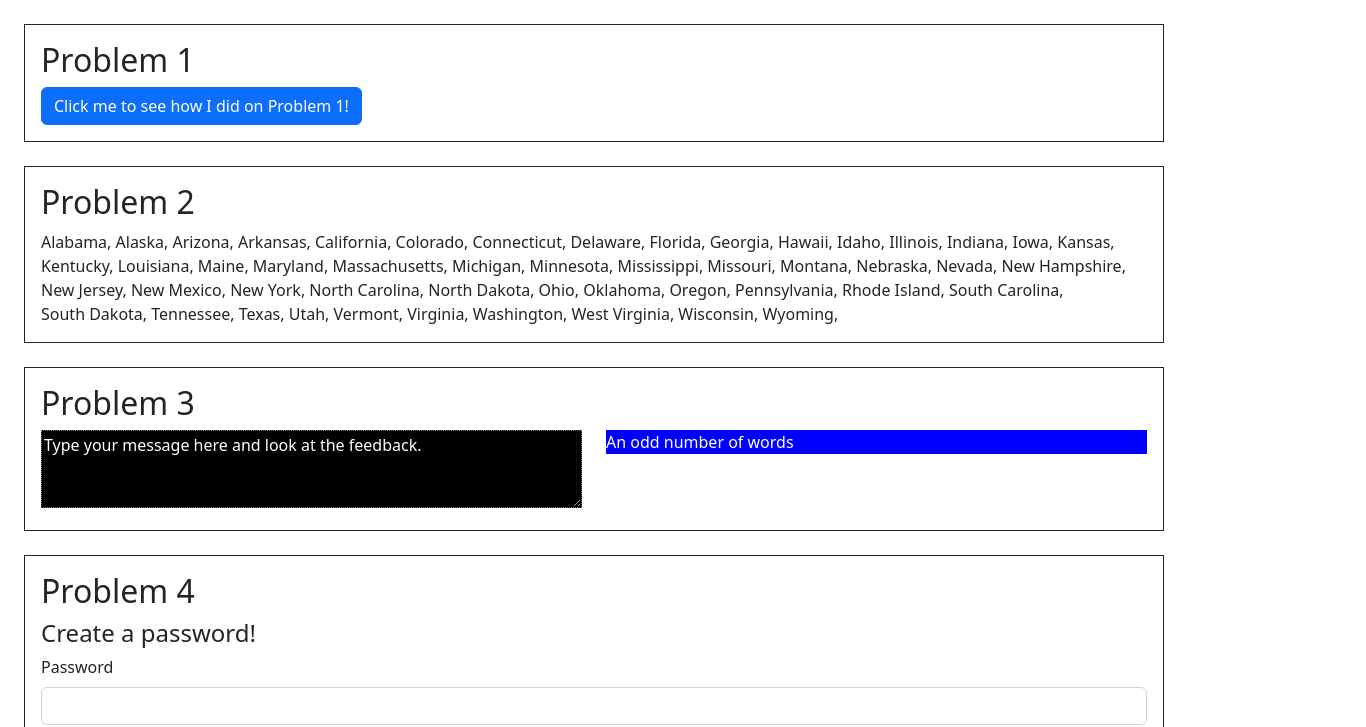
Scenario: Basic Tests › confirm no errors when hovering problem 2 item
Hover over the text "Alaska," at (145, 242), box [116, 230, 173, 254]
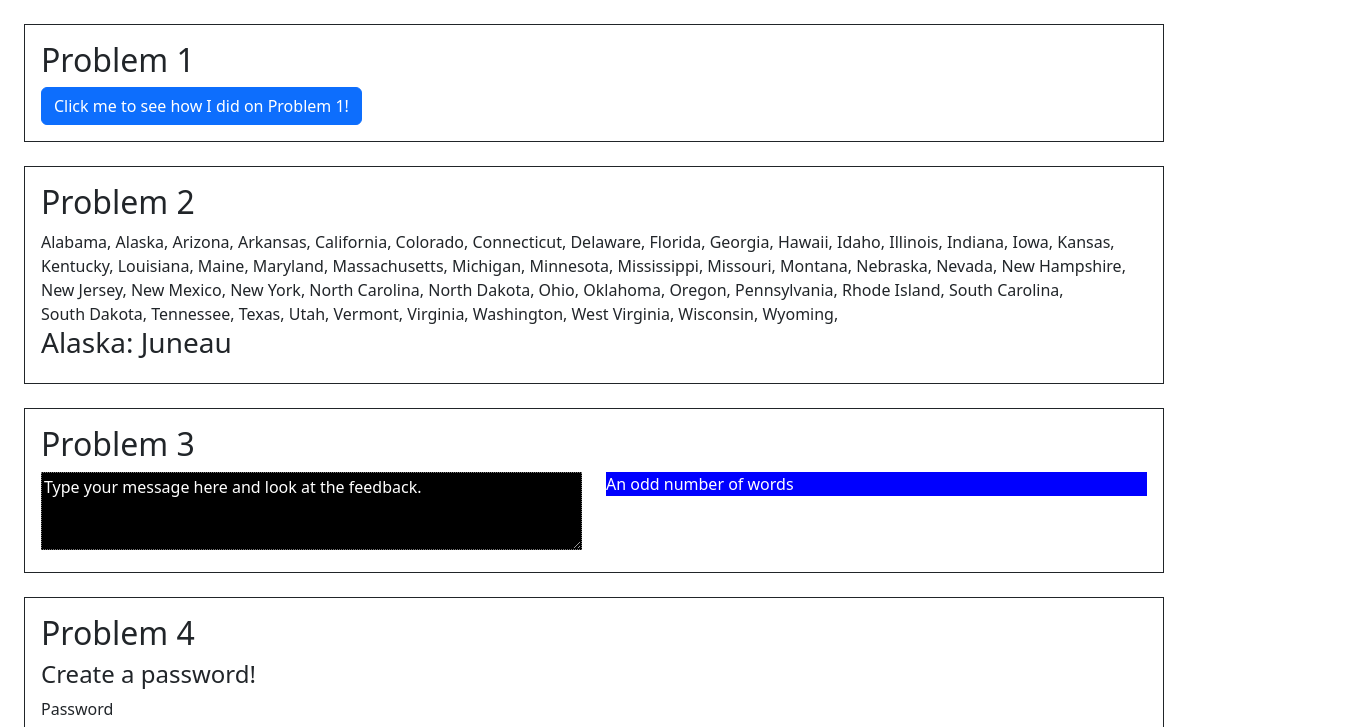
Check: the heading "Alaska: Juneau" is shown, box [41, 323, 232, 361]
